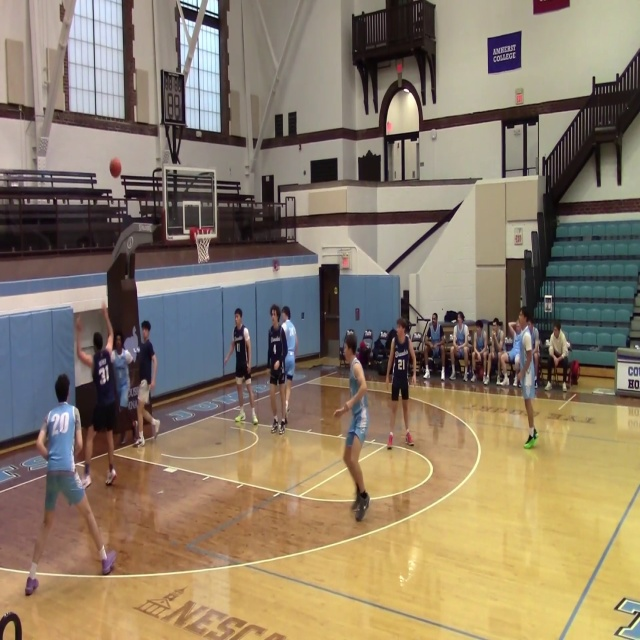Basketball: (109, 157, 122, 178)
